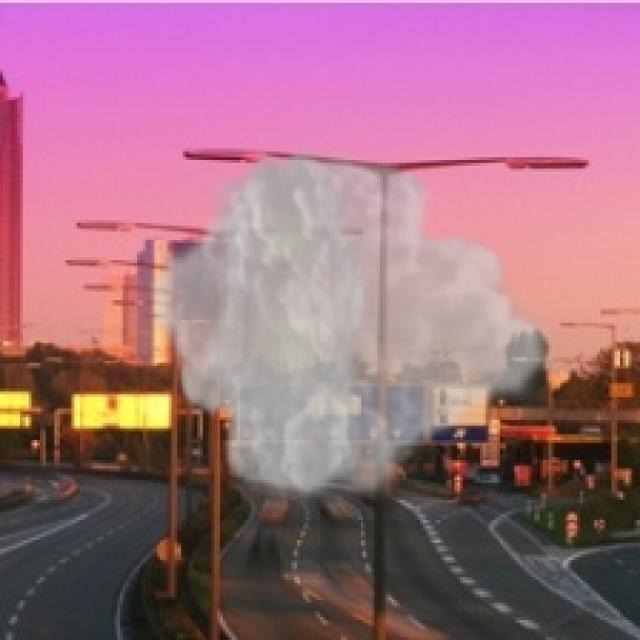Smoke: (145, 140, 558, 509)
